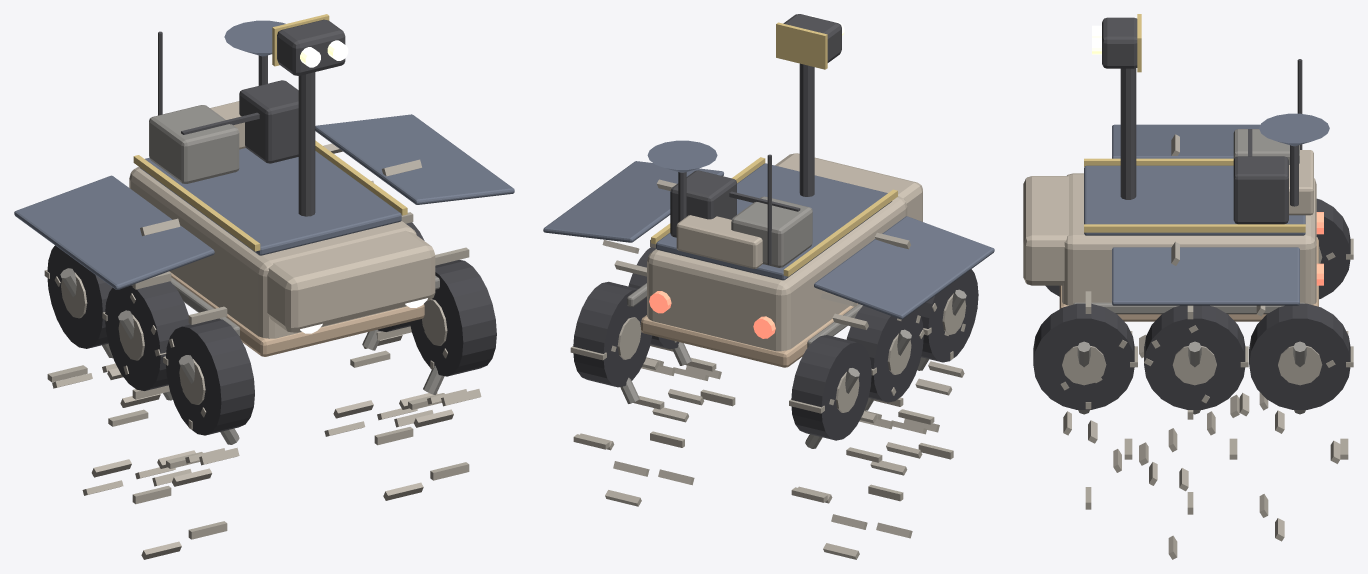
Rendered from pp_rover_mk2.glb.
3 views of the same model, side by side, from view 1: azimuth 30°, elevation 25°; view 2: azimuth 150°, elevation 25°; view 3: azimuth 270°, elevation 25° (orthographic). The views are drawn at different scales.
Visible parts, largest first — view 1: deck, prow, wing-1, hull, wing1, tyre-10, tyre10, cargo1, tyre-11, cargo2, tyre-12, skirt (+10 smaller); view 2: hull, wing-1, wing1, deck, tyre-12, tyre12, tyre-11, cargo1, cargo3, tyre-10, skirt, cargo2 (+12 smaller); view 3: wing1, deck, hull, tyre12, tyre10, tyre11, prow, cargo2, wing-1, mast, tyre-12, trimR (+11 smaller).
Boxes of the visible parts, bbox=[...] form: deck: bbox=[140, 148, 401, 255]; prow: bbox=[267, 230, 435, 332]; wing-1: bbox=[14, 175, 214, 289]; hull: bbox=[129, 166, 416, 338]; wing1: bbox=[315, 114, 514, 204]; tyre-10: bbox=[166, 318, 254, 435]; tyre10: bbox=[409, 260, 496, 376]; cargo1: bbox=[149, 105, 239, 183]; tyre-11: bbox=[105, 281, 190, 390]; cargo2: bbox=[239, 80, 298, 163]; tyre-12: bbox=[47, 245, 112, 348]; skirt: bbox=[169, 271, 424, 356]; hull: bbox=[647, 196, 907, 351]; wing-1: bbox=[814, 216, 994, 319]; wing1: bbox=[543, 161, 723, 242]; deck: bbox=[656, 163, 891, 280]; tyre-12: bbox=[791, 335, 871, 440]; tyre12: bbox=[573, 281, 652, 387]; tyre-11: bbox=[846, 305, 923, 402]; cargo1: bbox=[731, 196, 812, 267]; cargo3: bbox=[676, 215, 762, 268]; tyre-10: bbox=[917, 269, 978, 362]; skirt: bbox=[641, 303, 857, 367]; cargo2: bbox=[670, 170, 736, 237]; wing1: bbox=[1112, 247, 1299, 305]; deck: bbox=[1084, 165, 1305, 235]; hull: bbox=[1062, 173, 1316, 305]; tyre12: bbox=[1249, 303, 1350, 409]; tyre10: bbox=[1033, 303, 1134, 409]; tyre11: bbox=[1144, 305, 1245, 409]; prow: bbox=[1023, 176, 1068, 285]; cargo2: bbox=[1233, 156, 1288, 224]; wing-1: bbox=[1112, 124, 1260, 158]; mast: bbox=[1120, 68, 1136, 199]; tyre-12: bbox=[1316, 198, 1350, 299]; trimR: bbox=[1084, 224, 1305, 232].
Size of the model in its own units: 3.8 by 4.71 by 2.99.
